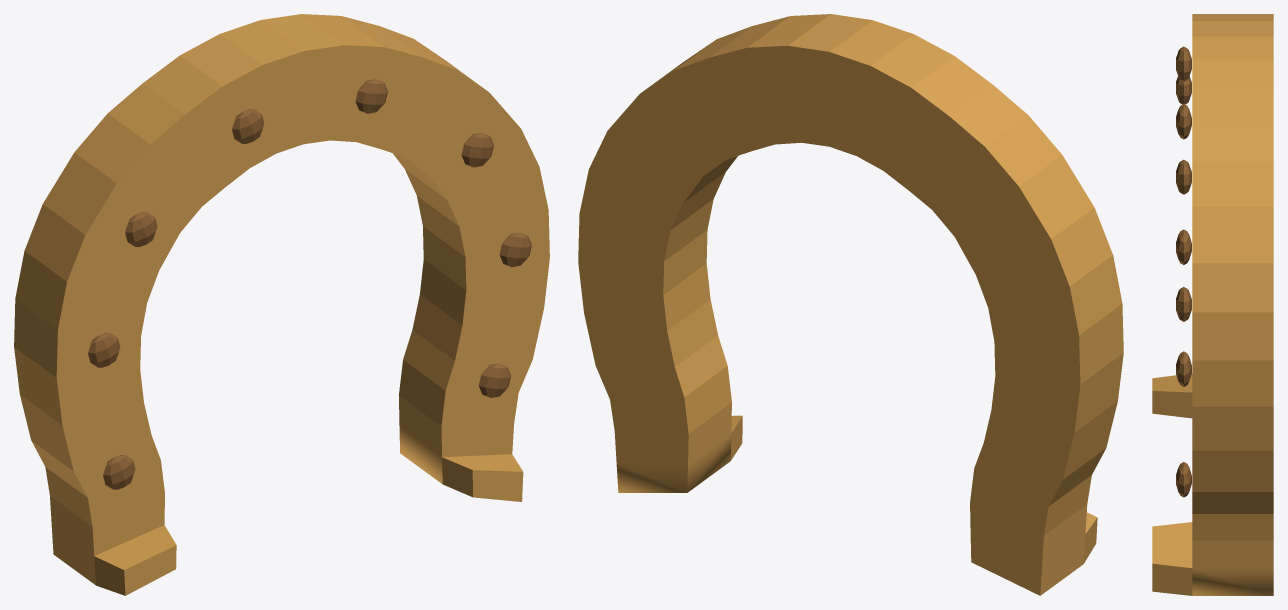
The model's file is Herradura.fbx.
3 views of the same model, side by side, from view 1: azimuth 30°, elevation 25°; view 2: azimuth 150°, elevation 25°; view 3: azimuth 270°, elevation 25° (orthographic). The views are drawn at different scales.
Parts seen in each view (by area): view 1: Herradura invertida | hierro forjado.001; view 2: Herradura invertida | hierro forjado.001; view 3: Herradura invertida | hierro forjado.001.
Part boxes in pixels (x1,y1,x2,y2): Herradura invertida | hierro forjado.001: (14, 14, 549, 595); Herradura invertida | hierro forjado.001: (578, 14, 1123, 595); Herradura invertida | hierro forjado.001: (1152, 14, 1273, 595).
Size of the model in its own units: 227 by 213 by 50.68.
